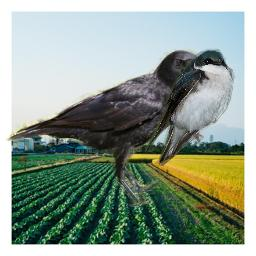Crow: (2, 49, 202, 207)
Swallow: (145, 46, 236, 166)
